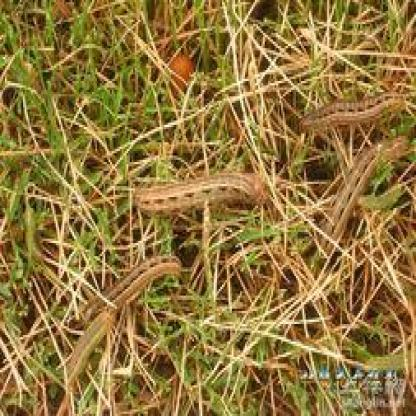armyworm: (132, 160, 276, 218), (318, 137, 386, 242), (84, 252, 185, 318), (298, 91, 410, 137), (65, 303, 113, 393)
